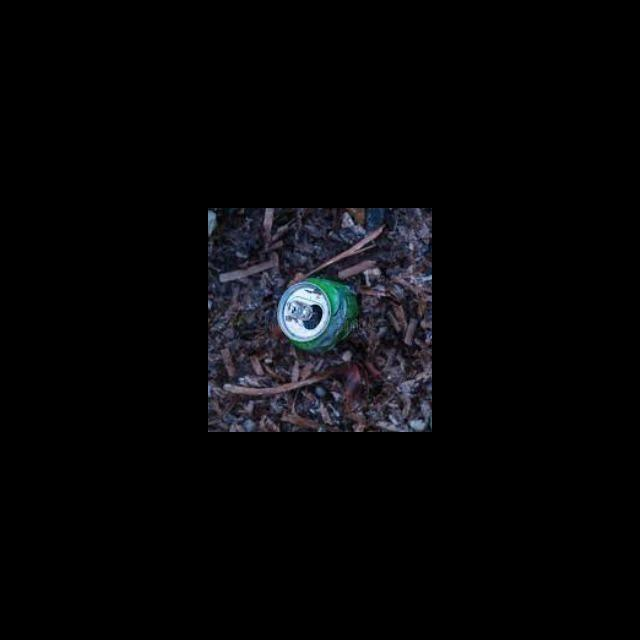metal: (256, 253, 374, 386)
